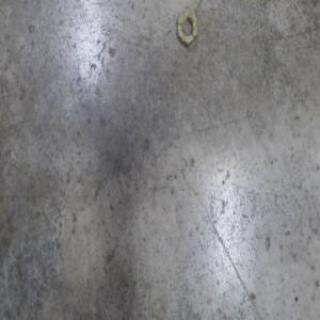Nuttrack_idkeyframe: (176, 5, 198, 48)
